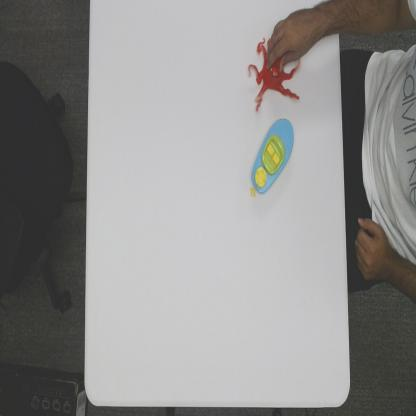Arm: (321, 0, 416, 42)
Boat: (249, 117, 295, 200)
Hand: (265, 3, 318, 73)
Octopus: (246, 35, 300, 113)
